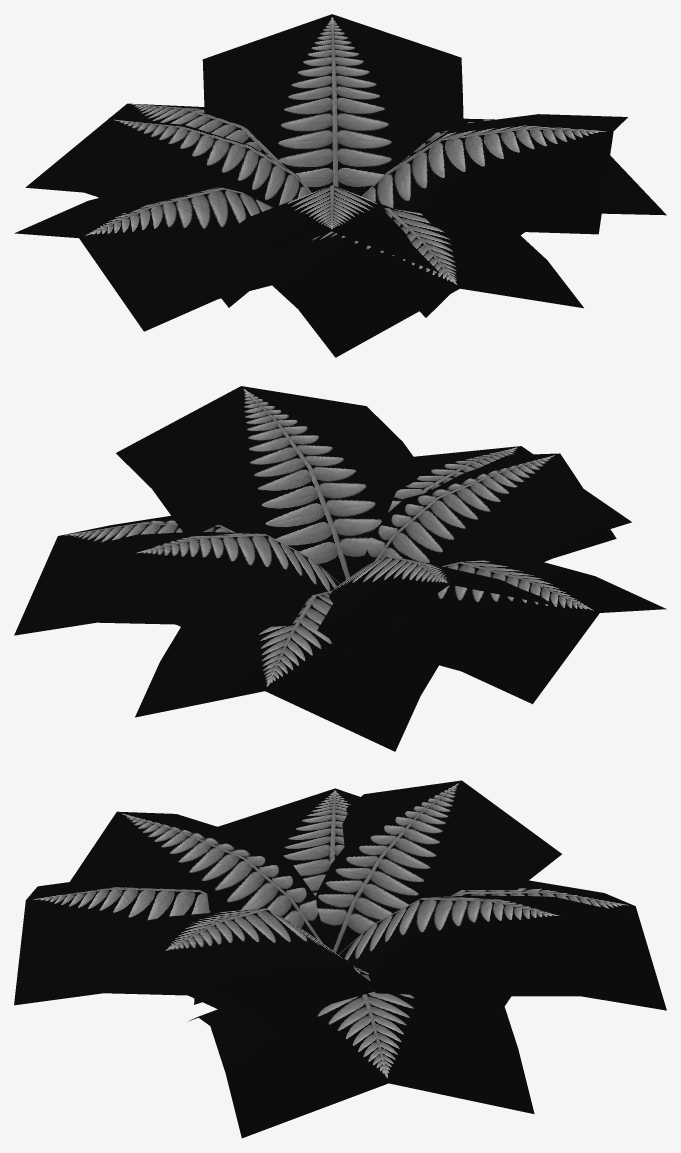
File: Fern02.fbx
3 views of the same model, one above another, from view 1: azimuth 30°, elevation 25°; view 2: azimuth 150°, elevation 25°; view 3: azimuth 270°, elevation 25° (orthographic). The views are drawn at different scales.
Parts seen in each view (by area): view 1: Fern02_LOD0; view 2: Fern02_LOD0; view 3: Fern02_LOD0.
Part boxes in pixels (x1,y1,x2,y2): Fern02_LOD0: (14, 14, 666, 357); Fern02_LOD0: (14, 386, 666, 751); Fern02_LOD0: (14, 780, 666, 1138).
Size of what is drawn, in the model's own units: 1.38 by 0.3718 by 1.4.
